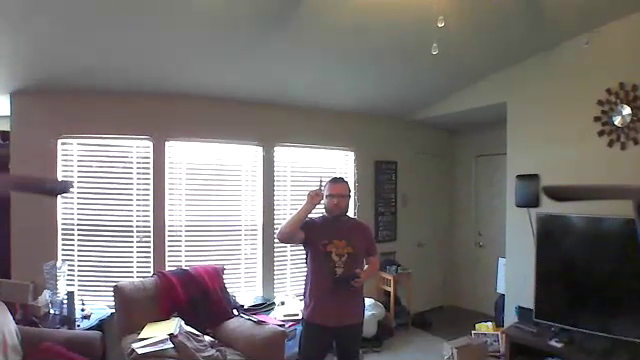up: (304, 175, 325, 205)
